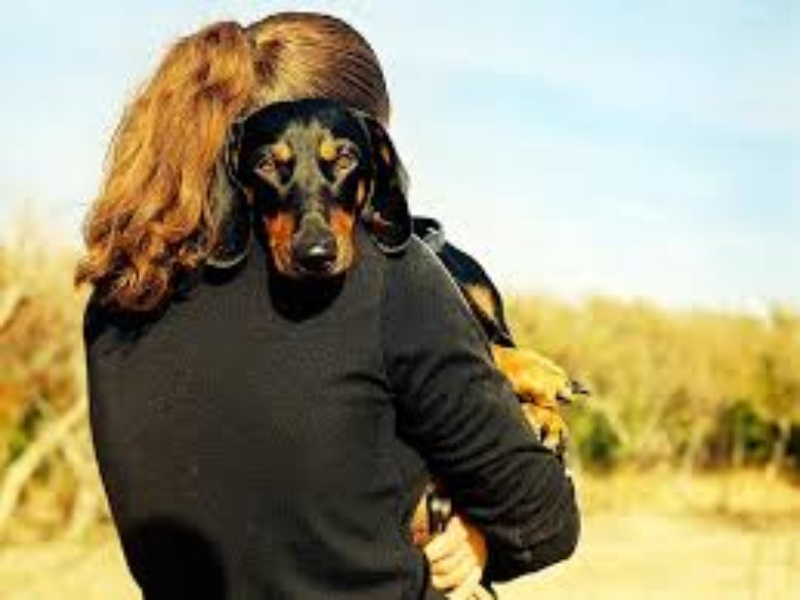dog: (236, 106, 415, 292)
